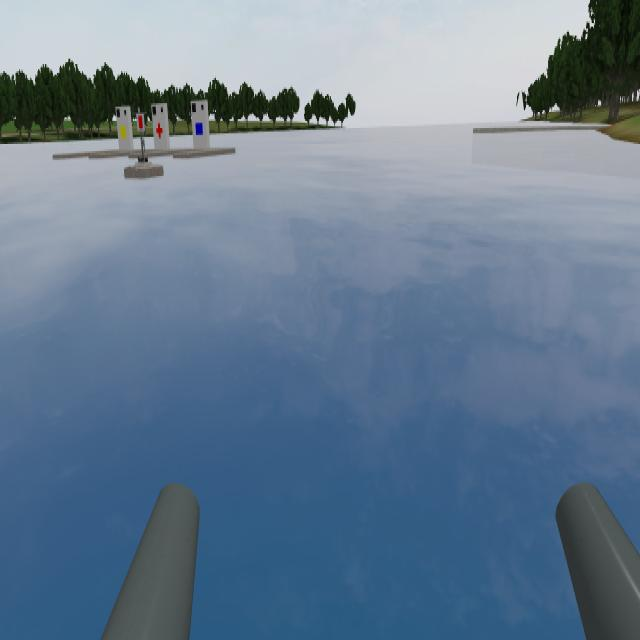red_pole: (133, 106, 148, 136)
